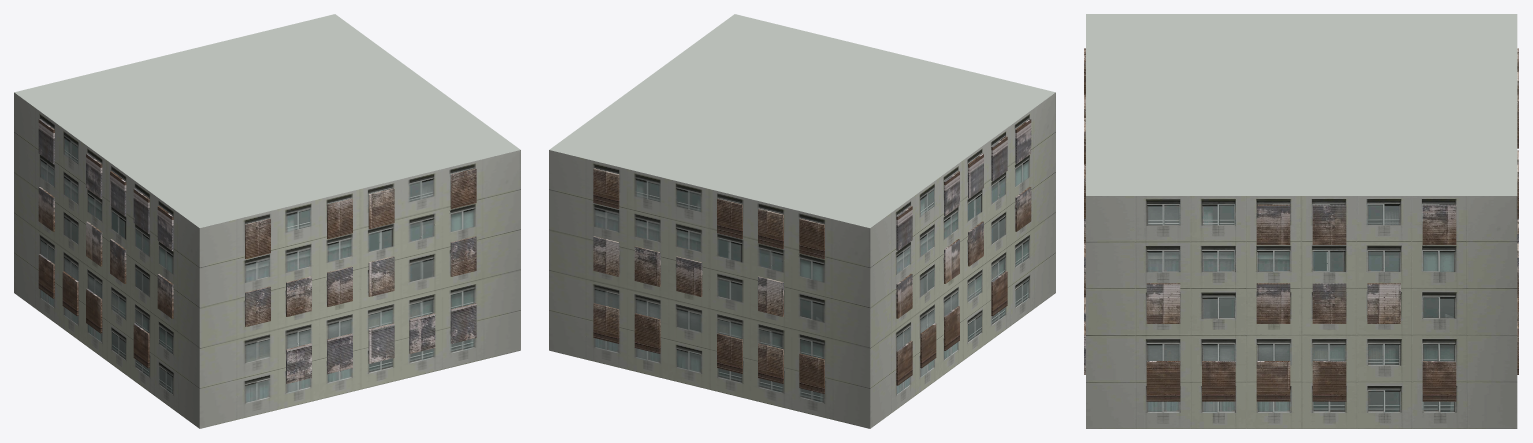
Rendered from BagSS03top_100.fbx.
3 renders of one model, left to right at view 1: azimuth 30°, elevation 25°; view 2: azimuth 150°, elevation 25°; view 3: azimuth 270°, elevation 25°, orthographic. The views are drawn at different scales.
Parts seen in each view (by area): view 1: topBox100, topRoof100, topwindows100; view 2: topBox100, topRoof100, topwindows100; view 3: topBox100, topRoof100, topwindows100.
Boxes of the visible parts, x1,y1,x2,y2 form: topBox100: (14, 92, 520, 428); topRoof100: (14, 14, 520, 227); topwindows100: (38, 119, 476, 383); topBox100: (549, 92, 1055, 428); topRoof100: (549, 14, 1055, 227); topwindows100: (593, 119, 1031, 393); topBox100: (1086, 196, 1517, 428); topRoof100: (1086, 14, 1517, 195); topwindows100: (1084, 48, 1518, 401).
Bounding box in the file's own units: 20.65 × 12.21 × 20.65.
